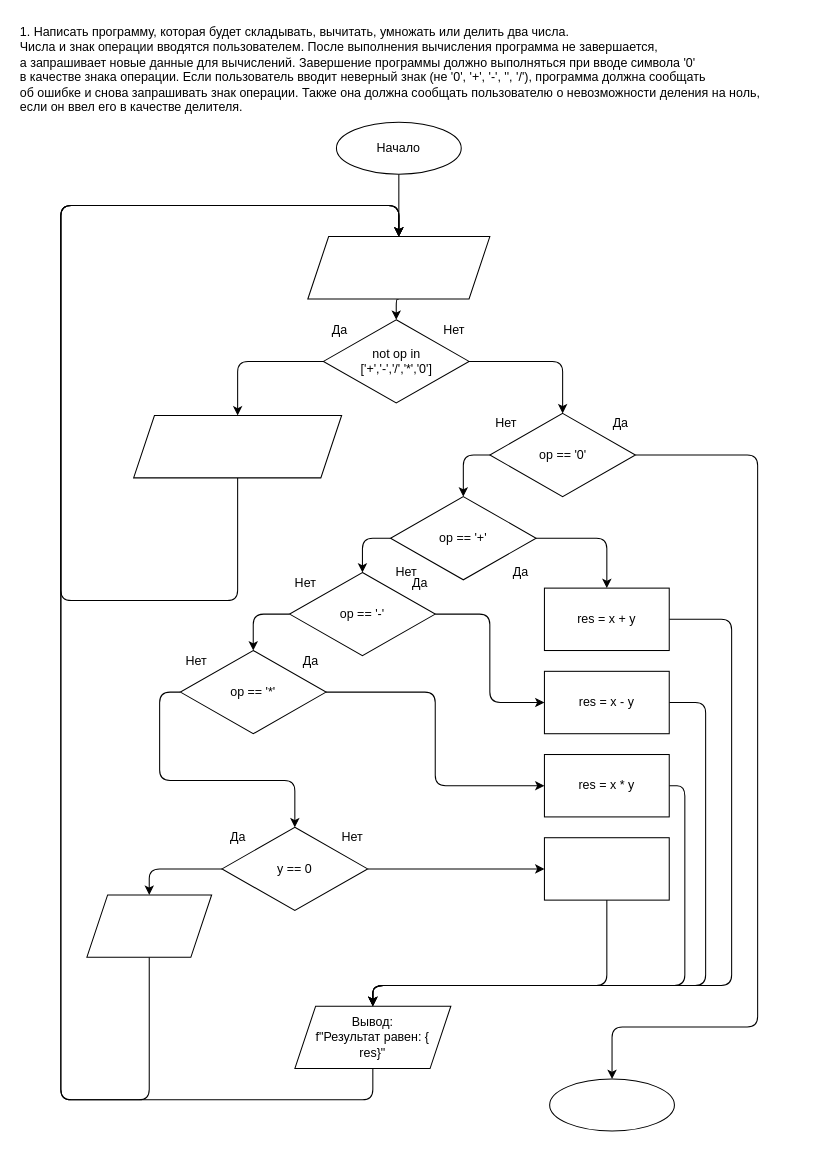
The diagram is 815 pixels wide and 1149 high, and some of its shapes have lost their labels. Each missing label, with the centre of its shape:
res = x / y: point (606, 868)
Ввод: "Введите два числа и знак операции" x, y, op: point (398, 267)
Вывод: "Делить на 0 нельзя": point (149, 925)
Вывод: "Недопустимый оператор, повторите ввод": point (237, 446)
Конец: point (611, 1104)
